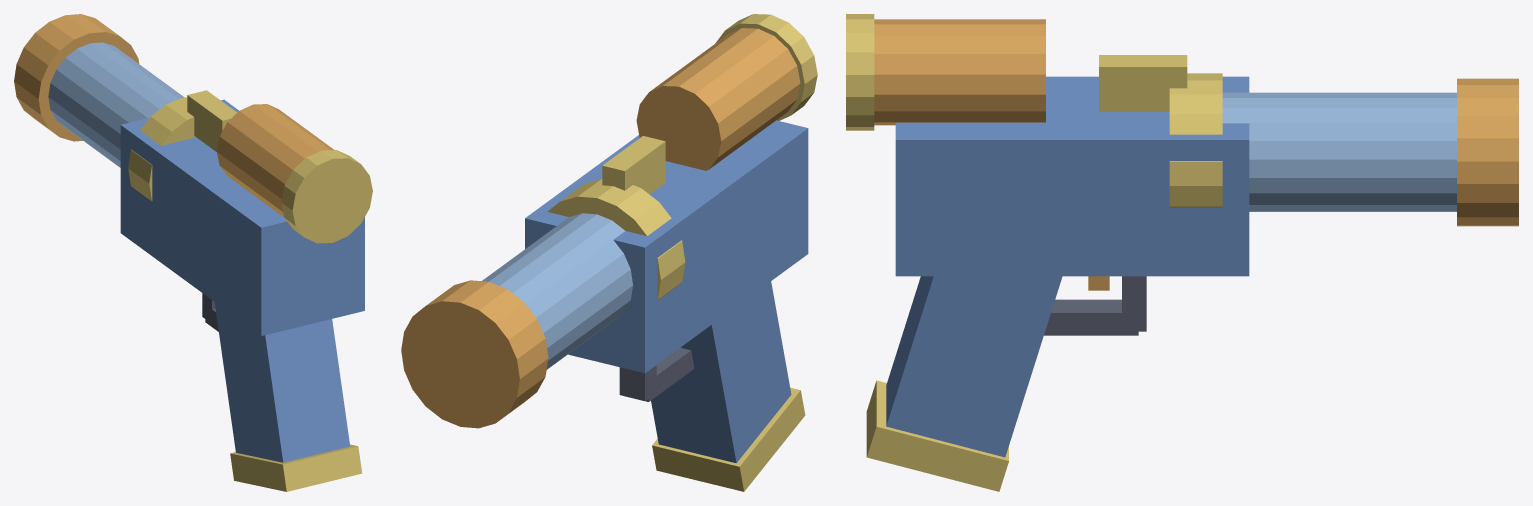
File: toy_gun.glb
3 renders of one model, left to right at view 1: azimuth 30°, elevation 25°; view 2: azimuth 150°, elevation 25°; view 3: azimuth 270°, elevation 25°, orthographic. The views are drawn at different scales.
Visible parts, largest first — view 1: body, grip, barrel, tank, tank_cap, muzzle_tip, grip_cap, collar, sight; view 2: body, muzzle_tip, grip, tank, barrel, collar, grip_cap, sight, tank_cap, guard_bottom, guard_front; view 3: body, barrel, grip, tank, muzzle_tip, grip_cap, collar, sight, tank_cap, guard_bottom, guard_front.
Part boxes in pixels (<box>): body: <box>120,99,364,335</box>; grip: <box>214,302,349,462</box>; barrel: <box>48,42,184,167</box>; tank: <box>216,104,333,217</box>; tank_cap: <box>281,150,372,243</box>; muzzle_tip: <box>14,14,139,141</box>; grip_cap: <box>230,444,362,491</box>; collar: <box>128,97,195,200</box>; sight: <box>187,90,237,151</box>; body: <box>525,120,808,373</box>; muzzle_tip: <box>401,280,548,428</box>; grip: <box>651,281,791,463</box>; tank: <box>636,28,800,170</box>; barrel: <box>482,213,632,369</box>; collar: <box>547,179,685,300</box>; grip_cap: <box>652,387,805,491</box>; sight: <box>602,136,665,194</box>; tank_cap: <box>715,14,817,120</box>; guard_bottom: <box>625,347,694,401</box>; guard_front: <box>619,365,656,400</box>; body: <box>895,76,1249,276</box>; barrel: <box>1222,92,1456,211</box>; grip: <box>886,276,1062,457</box>; tank: <box>874,19,1045,125</box>; muzzle_tip: <box>1457,78,1518,226</box>; grip_cap: <box>866,380,1008,491</box>; collar: <box>1169,73,1222,207</box>; sight: <box>1099,55,1187,111</box>; tank_cap: <box>846,14,874,130</box>; guard_bottom: <box>1044,299,1138,335</box>; guard_front: <box>1122,276,1146,331</box>.
Size of the model in its own units: 0.09 by 0.2804 by 0.3805.
